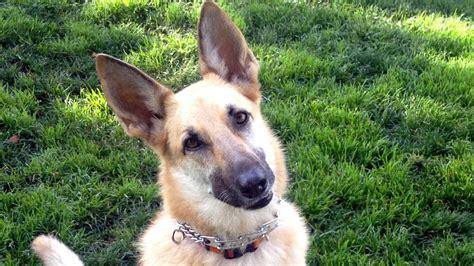dog: (33, 1, 305, 266)
